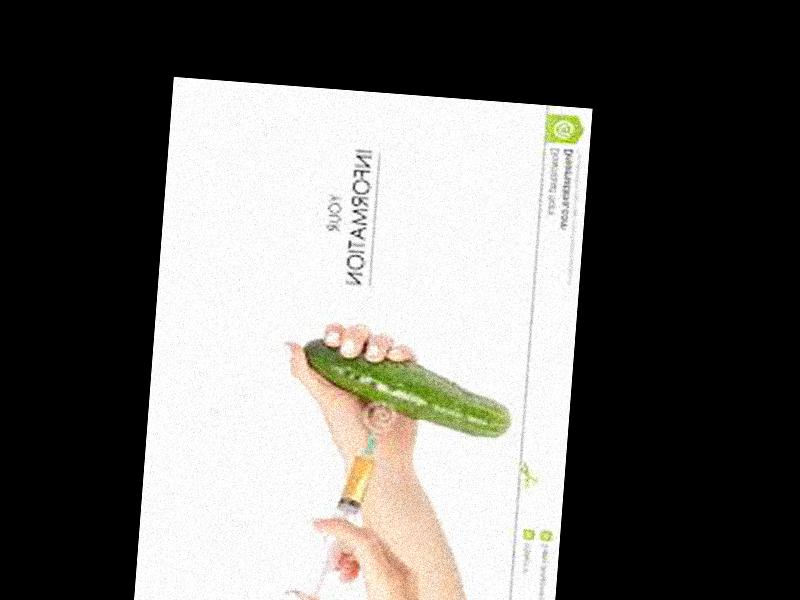Cucumber: (298, 338, 516, 439)
